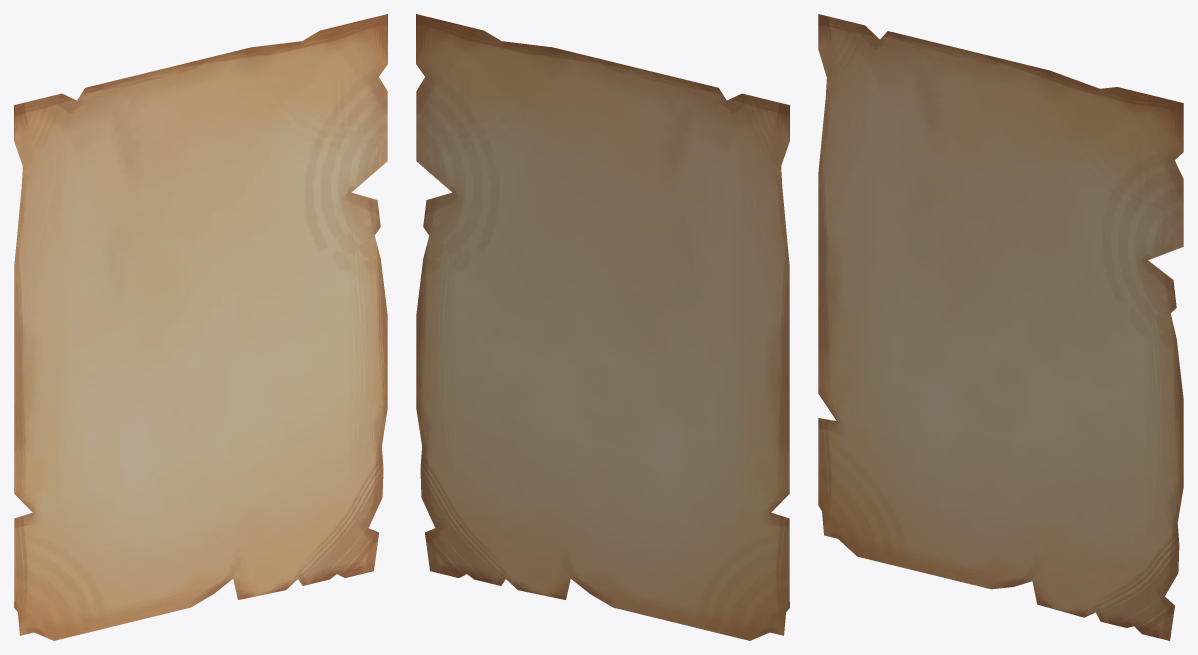
The model's file is letter.glb.
3 renders of one model, left to right at view 1: azimuth 30°, elevation 25°; view 2: azimuth 150°, elevation 25°; view 3: azimuth 330°, elevation 25°, orthographic. The views are drawn at different scales.
Parts seen in each view (by area): view 1: Letter; view 2: Letter; view 3: Letter.
Boxes of the visible parts, left/top/right/bottom form: Letter: left=14, top=14, right=387, bottom=640; Letter: left=416, top=14, right=789, bottom=640; Letter: left=818, top=14, right=1183, bottom=640.
Size of what is drawn, in the model's own units: 3.54 by 5.01 by 0.
Materials: 1 (1 with a texture image).
